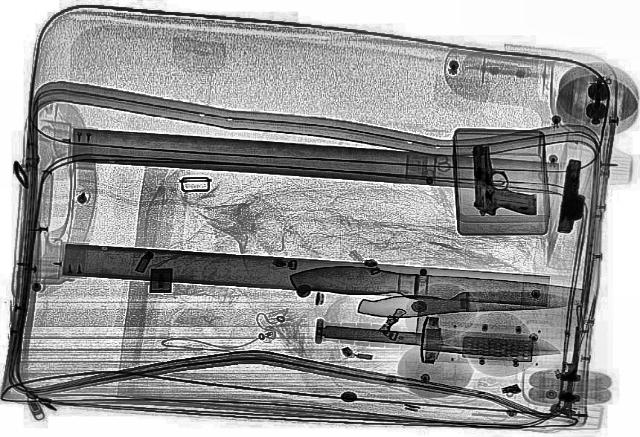Gun: (469, 143, 537, 217), (554, 158, 592, 232)
Knife: (272, 258, 586, 358), (317, 316, 563, 362), (356, 287, 582, 319)
